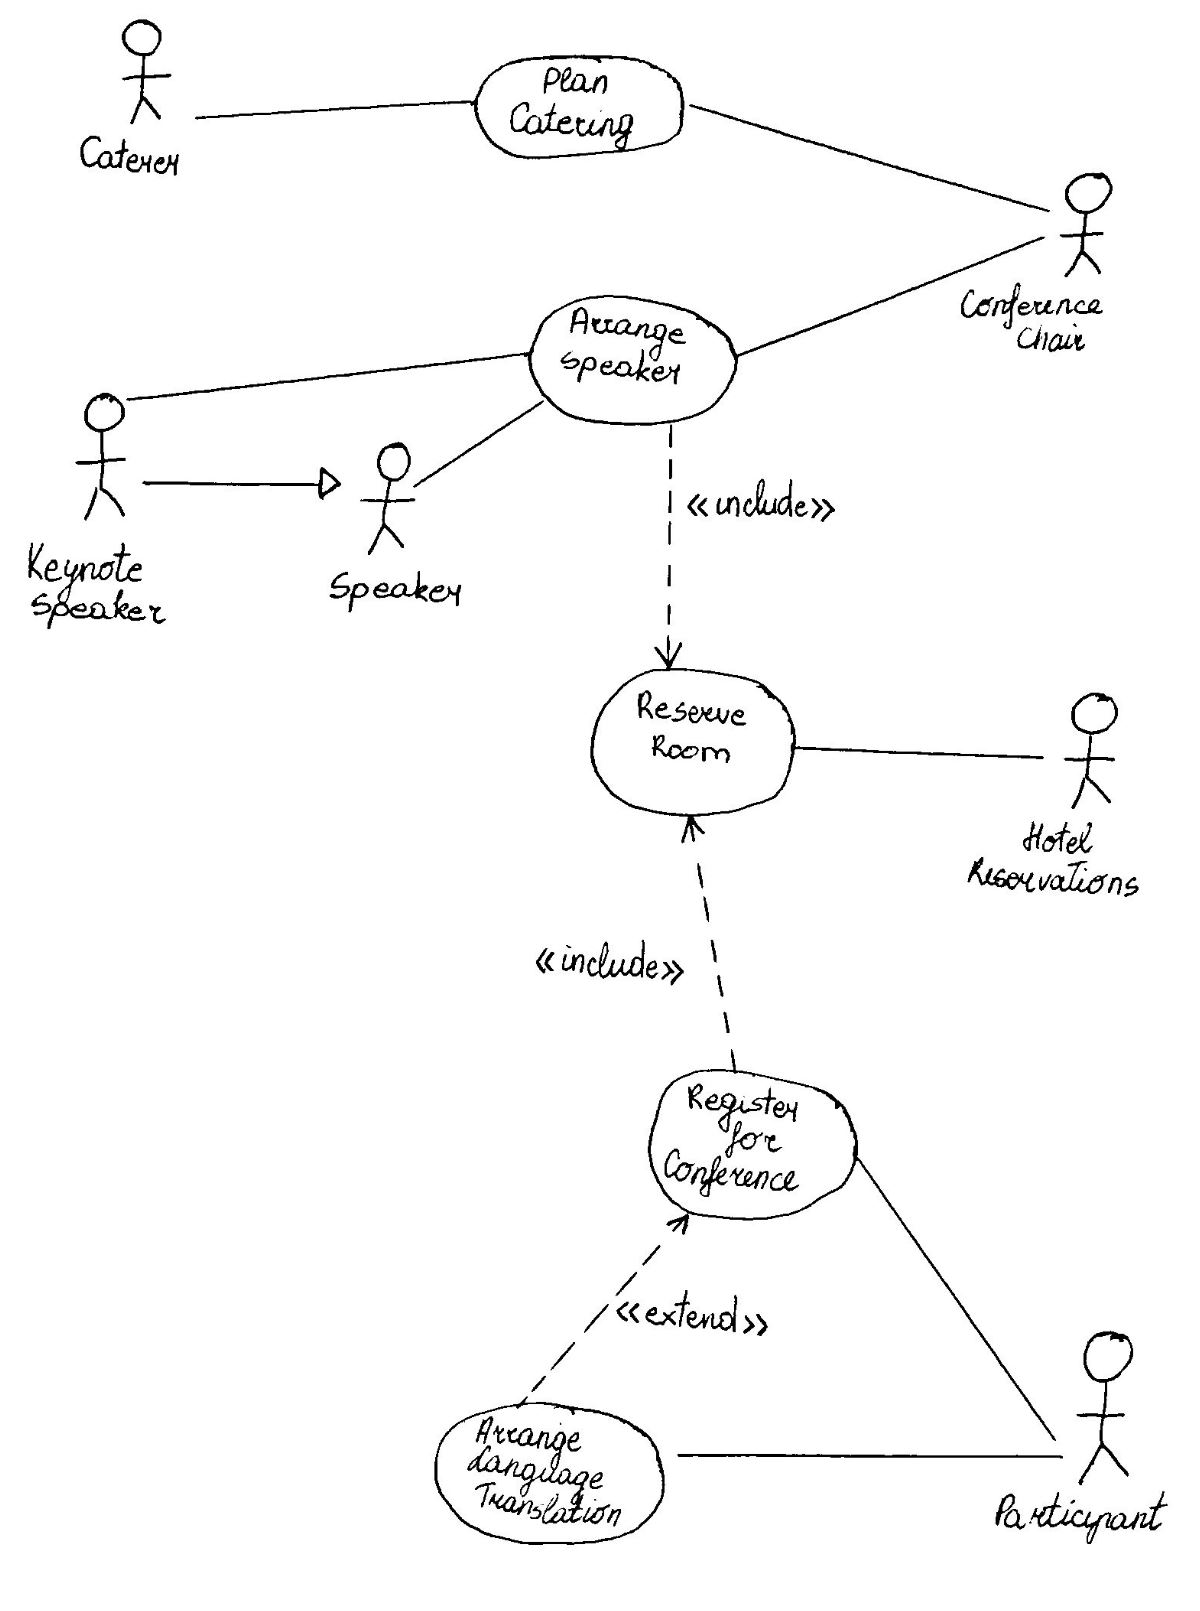actor: (1063, 1322, 1150, 1495), (1042, 686, 1137, 822), (66, 392, 137, 524), (108, 14, 176, 132), (1061, 151, 1118, 287), (355, 439, 412, 561)
association: (851, 1155, 1063, 1448), (691, 95, 1055, 212), (741, 233, 1044, 355), (519, 1216, 689, 1403), (132, 347, 524, 403), (676, 816, 745, 1070), (679, 1432, 1066, 1475), (192, 86, 466, 135), (411, 395, 547, 487), (649, 429, 691, 671), (795, 734, 1039, 773)
generalization: (142, 463, 345, 500)
text: (466, 1413, 637, 1532), (655, 1078, 816, 1203), (25, 536, 180, 637), (966, 819, 1152, 903), (550, 303, 697, 395), (504, 61, 638, 149), (986, 1489, 1174, 1549), (961, 279, 1100, 357), (634, 679, 749, 766), (524, 930, 684, 986), (615, 1288, 776, 1342), (689, 471, 839, 528), (323, 569, 476, 616), (77, 131, 199, 184)
use_case: (434, 1400, 671, 1552), (645, 1066, 858, 1223), (592, 664, 795, 819), (529, 292, 739, 426), (469, 50, 684, 158)
